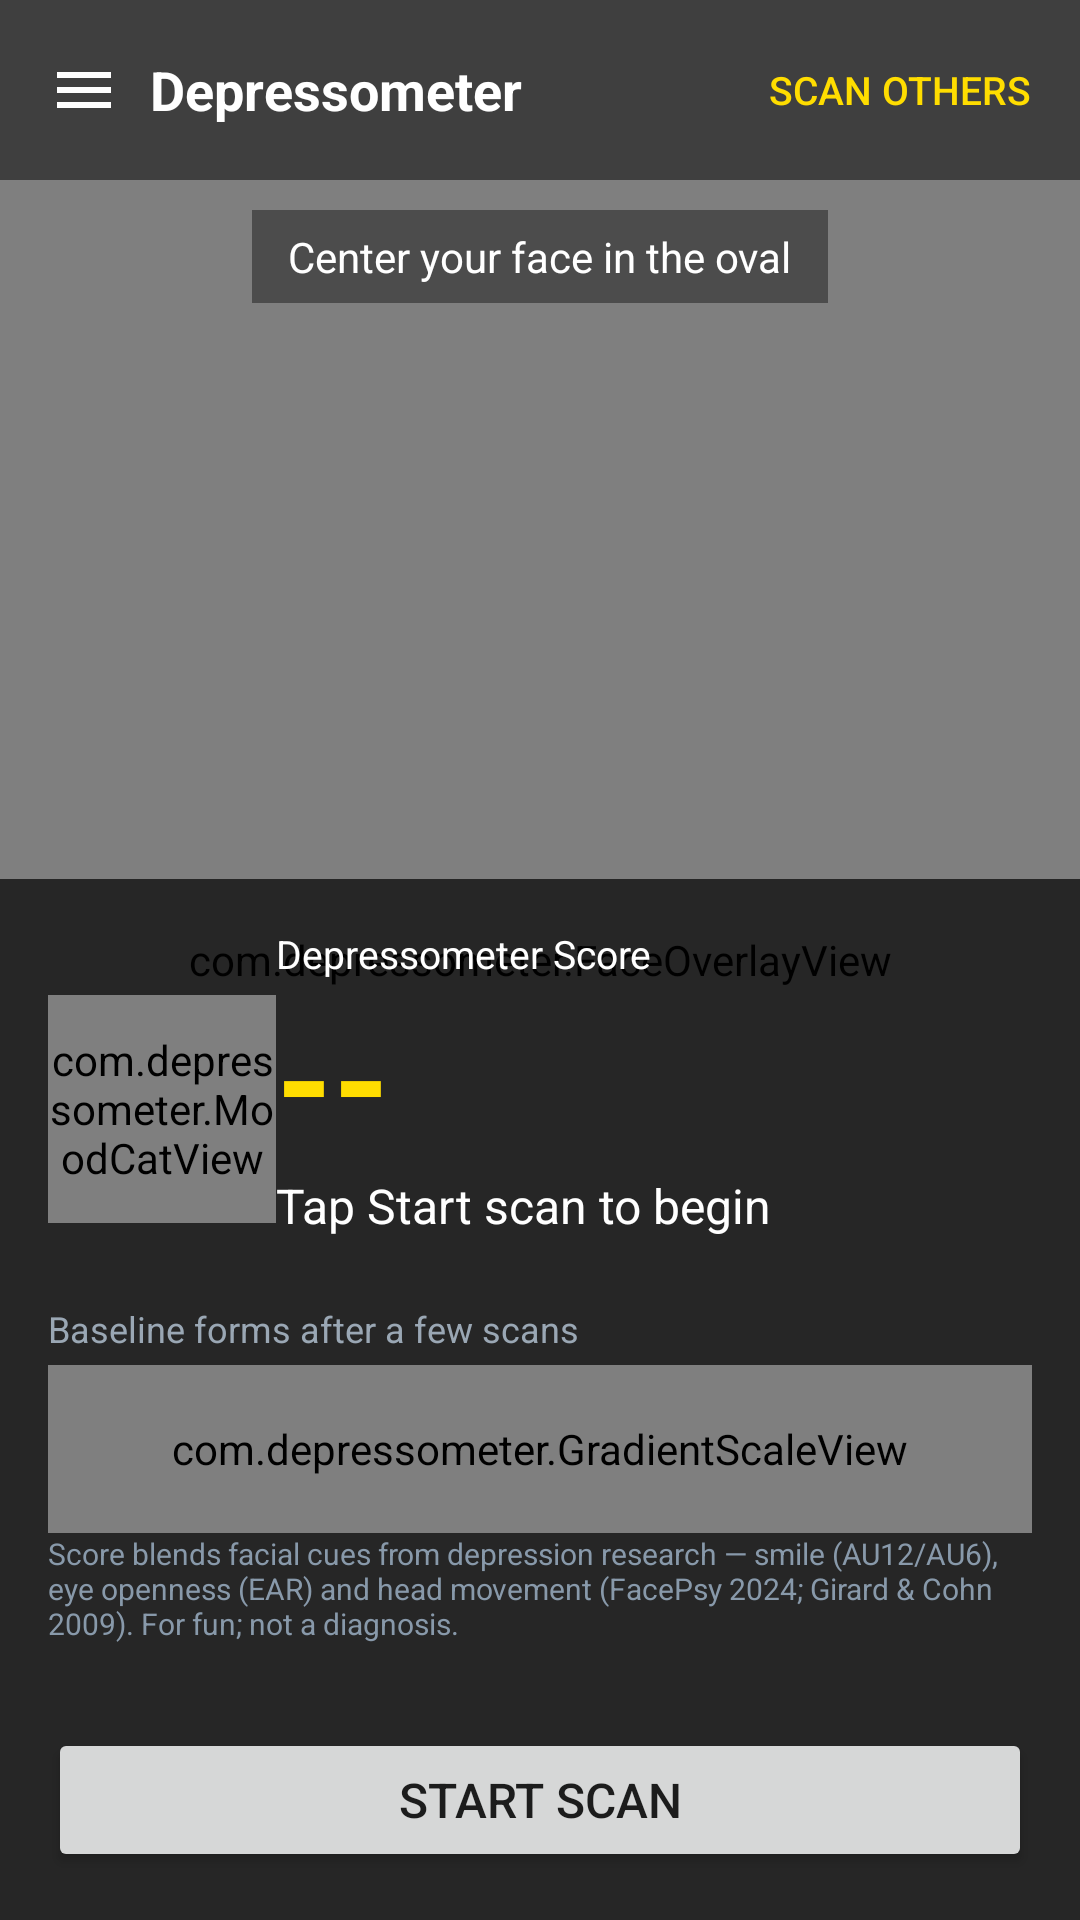

Named icons in this screenshot (1080*1920) and their centers, (x=x, y=y):
Open menu: (x=84, y=90)
